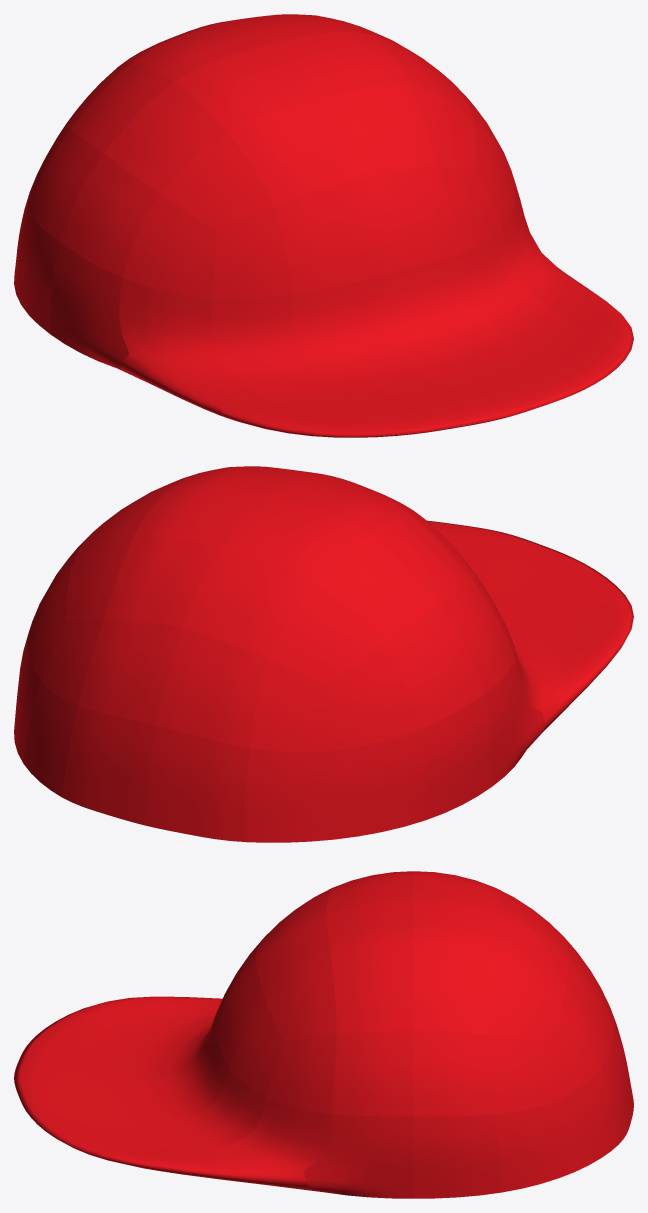
File: sallerHat.fbx
3 views of the same model, one above another, from view 1: azimuth 30°, elevation 25°; view 2: azimuth 150°, elevation 25°; view 3: azimuth 270°, elevation 25° (orthographic). The views are drawn at different scales.
Parts seen in each view (by area): view 1: man.004; view 2: man.004; view 3: man.004.
Boxes of the visible parts, x1,y1,x2,y2 form: man.004: (14, 14, 633, 437); man.004: (14, 466, 633, 842); man.004: (14, 871, 633, 1198).
Bounding box in the file's own units: 114 × 59.05 × 160.
